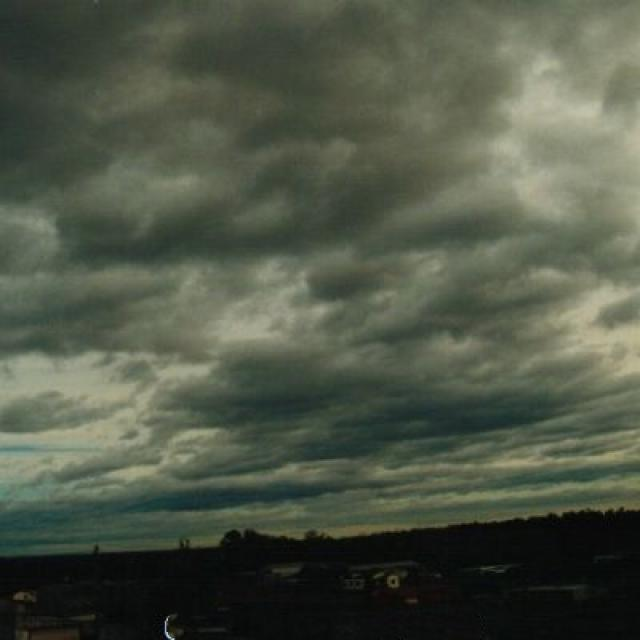Cs: (1, 14, 640, 457)
